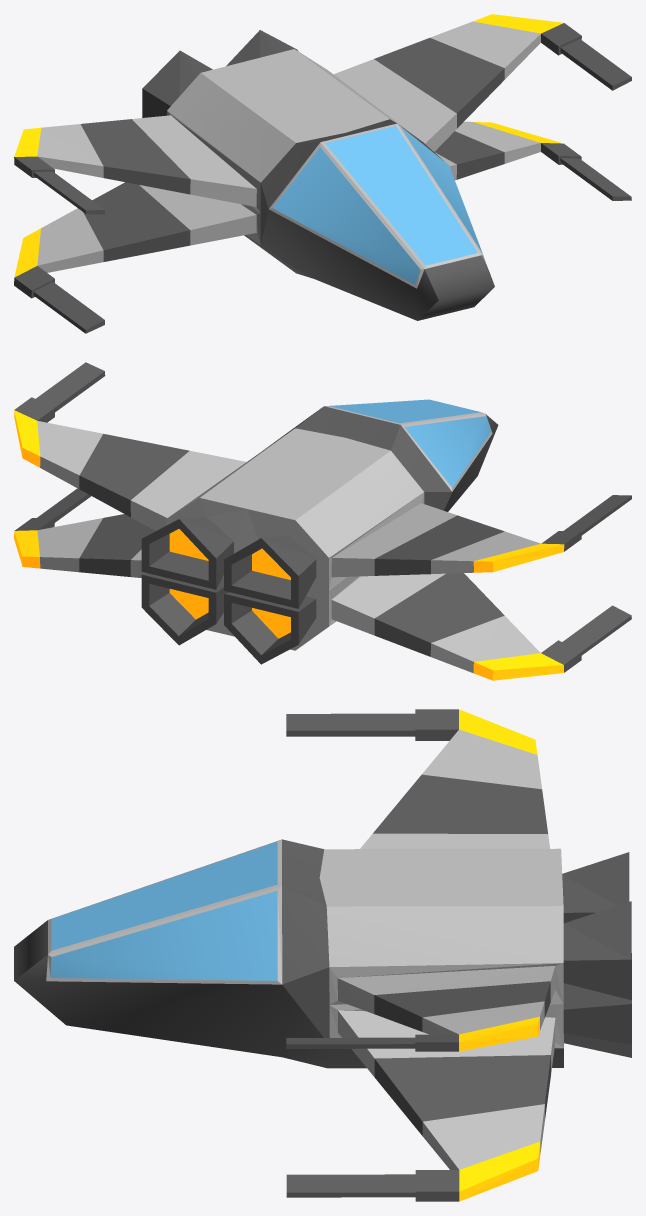
File: ship.glb
3 views of the same model, one above another, from view 1: azimuth 30°, elevation 25°; view 2: azimuth 150°, elevation 25°; view 3: azimuth 270°, elevation 25° (orthographic). The views are drawn at different scales.
Visible parts, largest first — view 1: Box003_03 - Default_0, Box003_Material #25_0, Box003_01 - Default_0, Box003_Material #26_0, Box003_08 - Default_0, Box003_02 - Default_0; view 2: Box003_03 - Default_0, Box003_Material #25_0, Box003_02 - Default_0, Box003_01 - Default_0, Box003_Material #26_0, Box003_08 - Default_0; view 3: Box003_03 - Default_0, Box003_Material #25_0, Box003_01 - Default_0, Box003_Material #26_0, Box003_02 - Default_0, Box003_08 - Default_0.
Part boxes in pixels (box(x1,y1,x2,y2)): Box003_03 - Default_0: box(14, 23, 631, 333); Box003_Material #25_0: box(37, 21, 540, 272); Box003_01 - Default_0: box(273, 126, 482, 284); Box003_Material #26_0: box(201, 61, 344, 142); Box003_08 - Default_0: box(269, 123, 488, 288); Box003_02 - Default_0: box(14, 14, 563, 277); Box003_03 - Default_0: box(14, 362, 631, 672); Box003_Material #25_0: box(37, 421, 540, 673); Box003_02 - Default_0: box(14, 410, 564, 680); Box003_01 - Default_0: box(329, 399, 490, 487); Box003_Material #26_0: box(248, 438, 390, 520); Box003_08 - Default_0: box(325, 404, 492, 491); Box003_03 - Default_0: box(14, 709, 631, 1201); Box003_Material #25_0: box(319, 729, 563, 1169); Box003_01 - Default_0: box(50, 841, 277, 980); Box003_Material #26_0: box(319, 848, 562, 877); Box003_02 - Default_0: box(459, 709, 540, 1201); Box003_08 - Default_0: box(46, 839, 282, 984).
Bounding box in the file's own units: 28.56 × 7.04 × 22.4.
